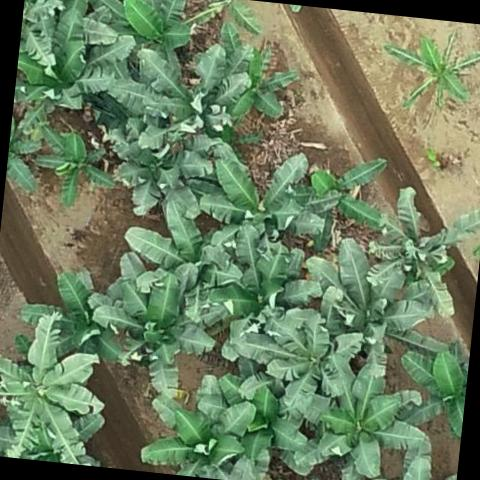Banana-plant: (300, 238, 433, 368), (0, 308, 102, 442), (316, 365, 432, 480), (364, 190, 478, 306), (92, 278, 212, 388), (229, 313, 360, 405), (134, 35, 252, 136), (198, 144, 326, 237), (106, 127, 219, 228), (120, 198, 236, 294), (202, 232, 300, 339), (144, 376, 242, 480), (216, 380, 316, 480), (17, 270, 126, 360), (377, 28, 480, 121), (12, 33, 111, 121), (306, 150, 387, 244), (39, 125, 122, 204), (394, 348, 470, 434), (84, 0, 206, 47), (230, 50, 303, 126)
